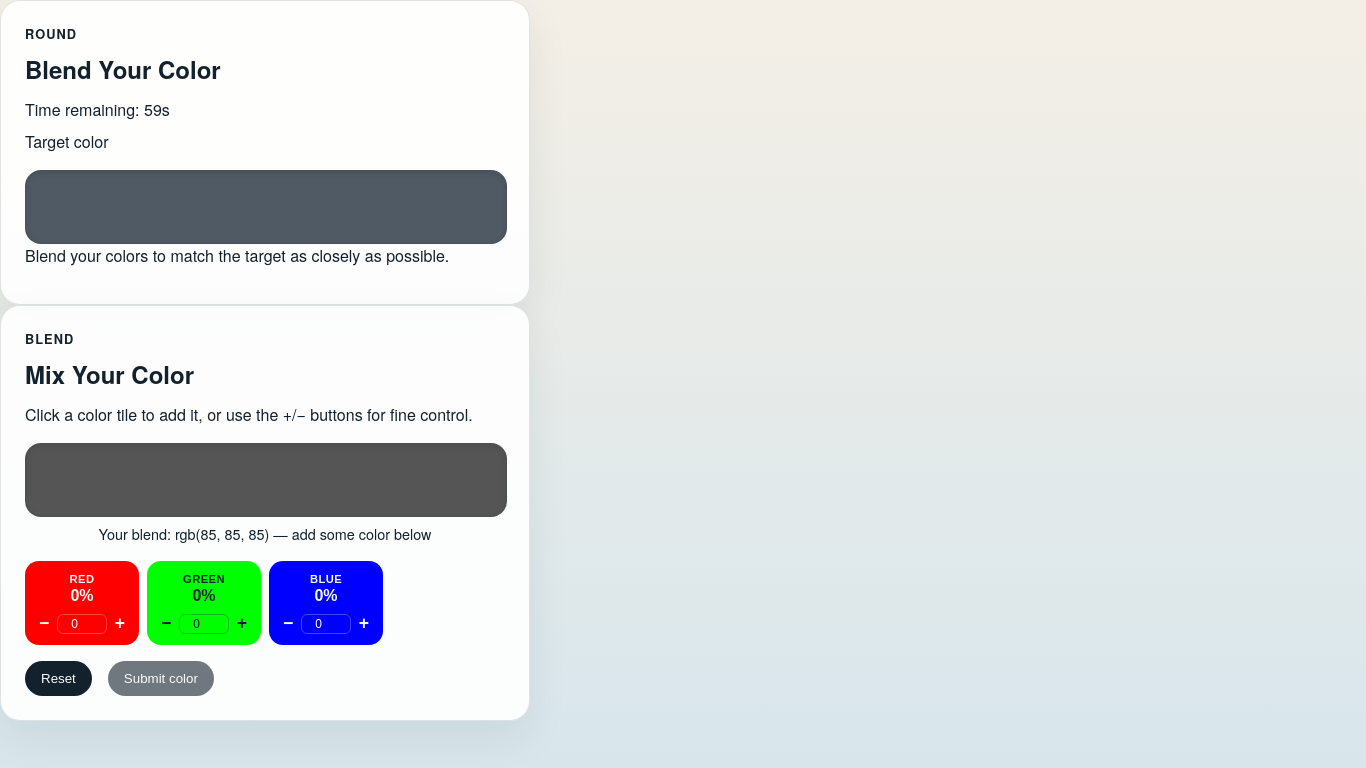
Test: starts gameplay and submits a blended color
Check: the heading "Blend Your Color" is shown, box x1=25 y1=52 x2=221 y2=86
Click the button with aria-label "Add Red" at (82, 586), box x1=27 y1=563 x2=137 y2=609
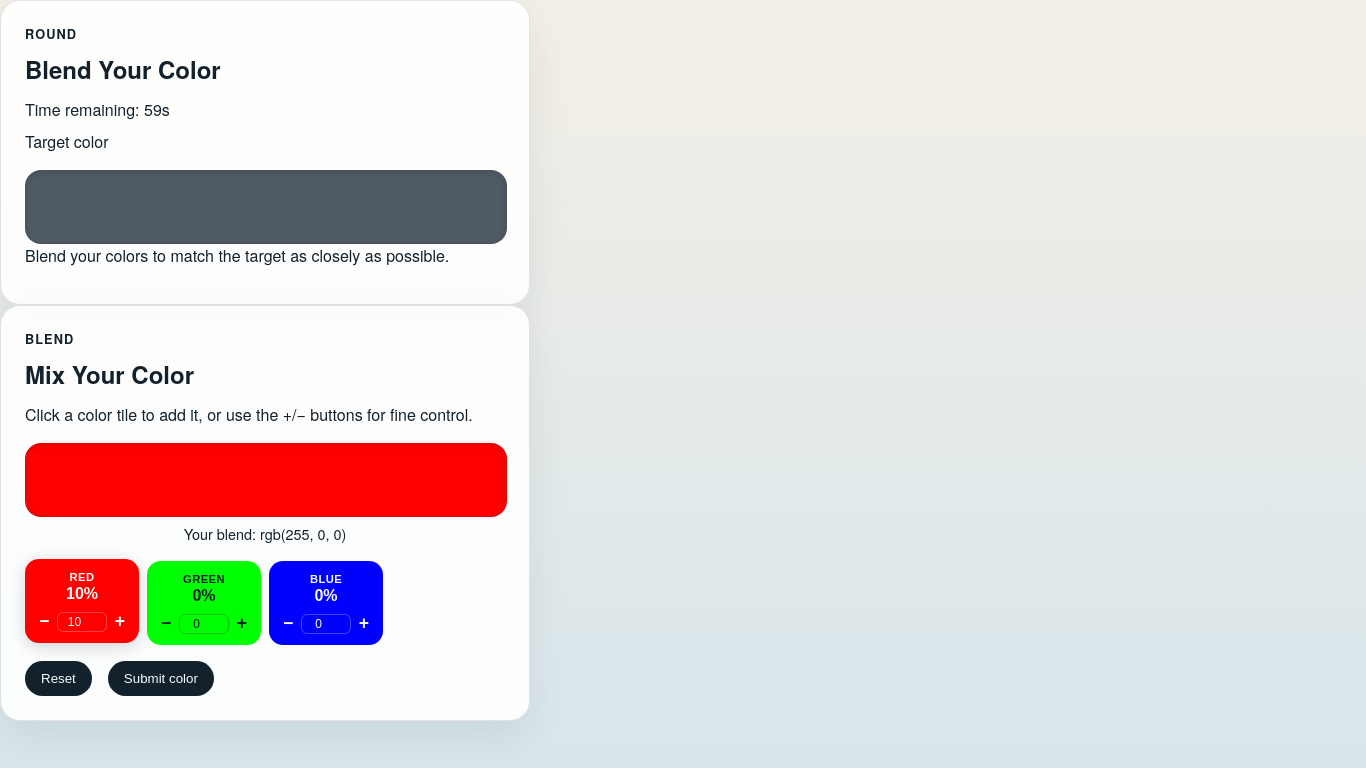
Check: the number field named "Red weight" holds "10", box x1=57 y1=612 x2=107 y2=632
Check: the button "Submit color" is enabled
Click the button "Submit color" at (161, 678), box x1=108 y1=661 x2=214 y2=696
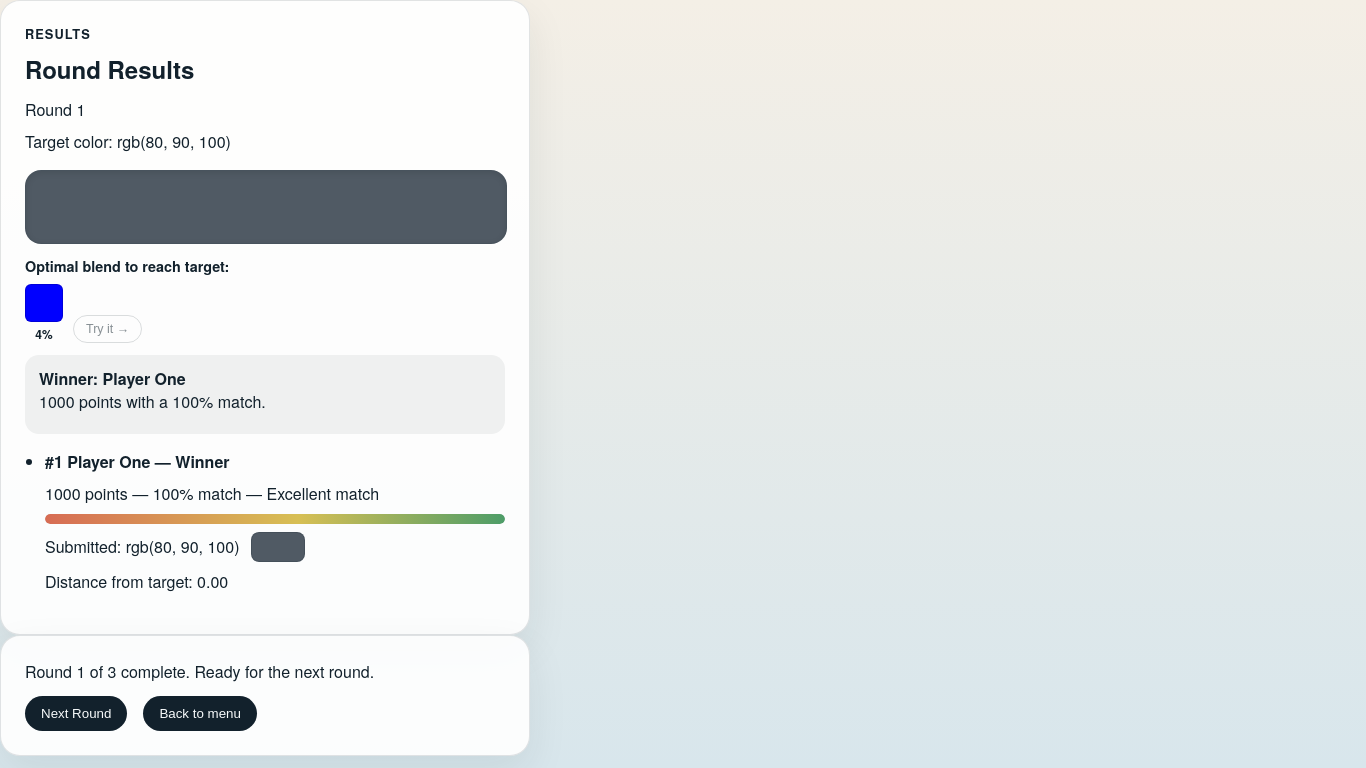
Check: the heading "Round Results" is shown, box x1=25 y1=52 x2=194 y2=86
